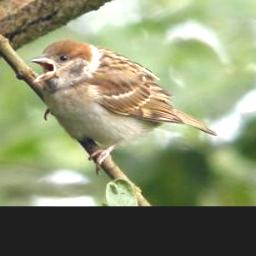Sparrow: (29, 37, 219, 176)
